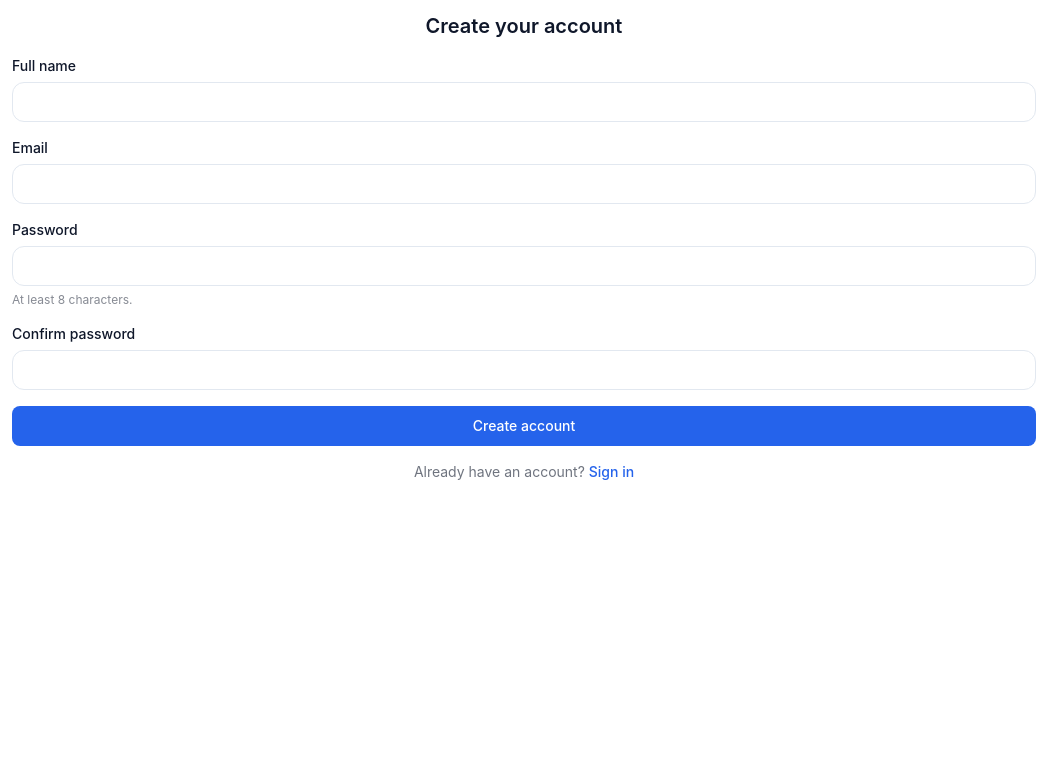
RegisterPage (integration) › shows a server-error message and stays on the page when the API rejects (e.g. duplicate email)
Type "Jane Doe" into the field labelled "Full name".
click(524, 102); type("Jane Doe")  # box [12,82,1036,122]
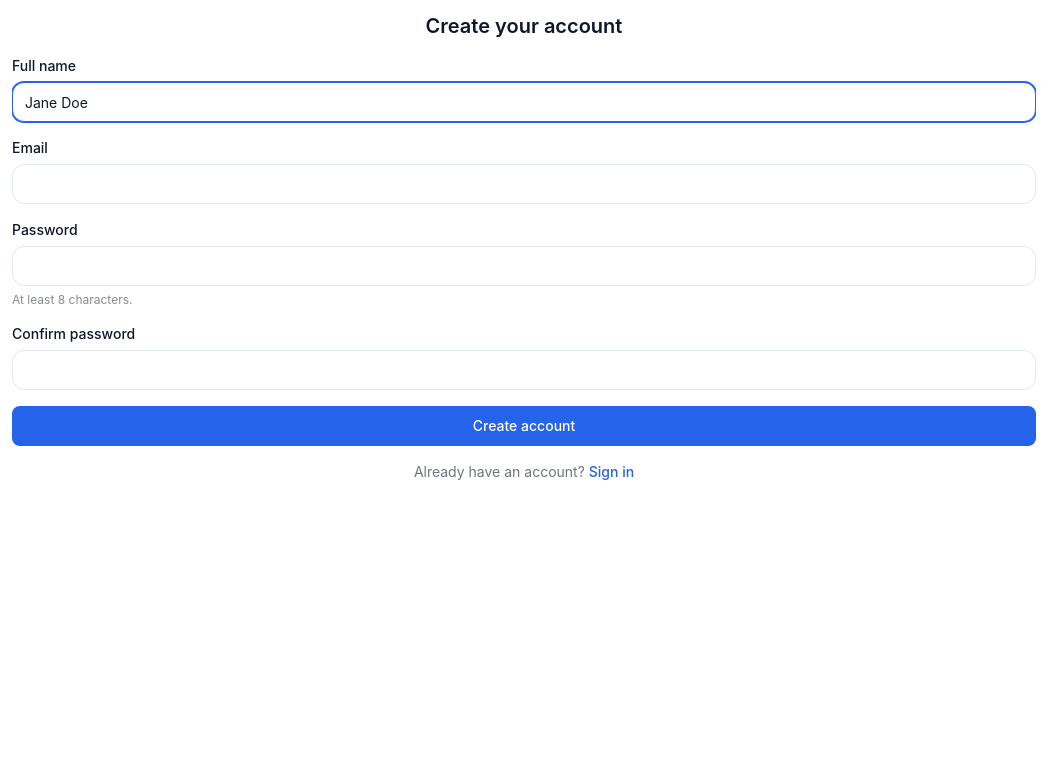
Type "jane@example.com" into the field labelled "Email".
click(524, 184); type("jane@example.com")  # box [12,164,1036,204]
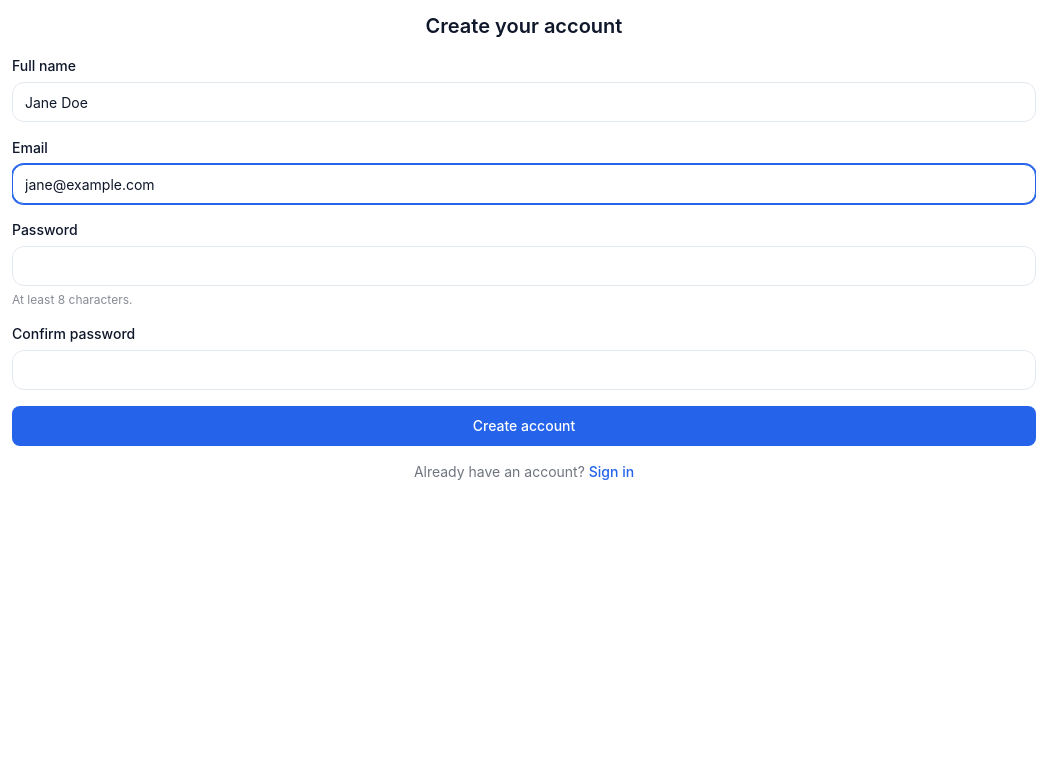
Type "Password123!" into the password field labelled "Password".
click(524, 266); type("Password123!")  # box [12,246,1036,286]
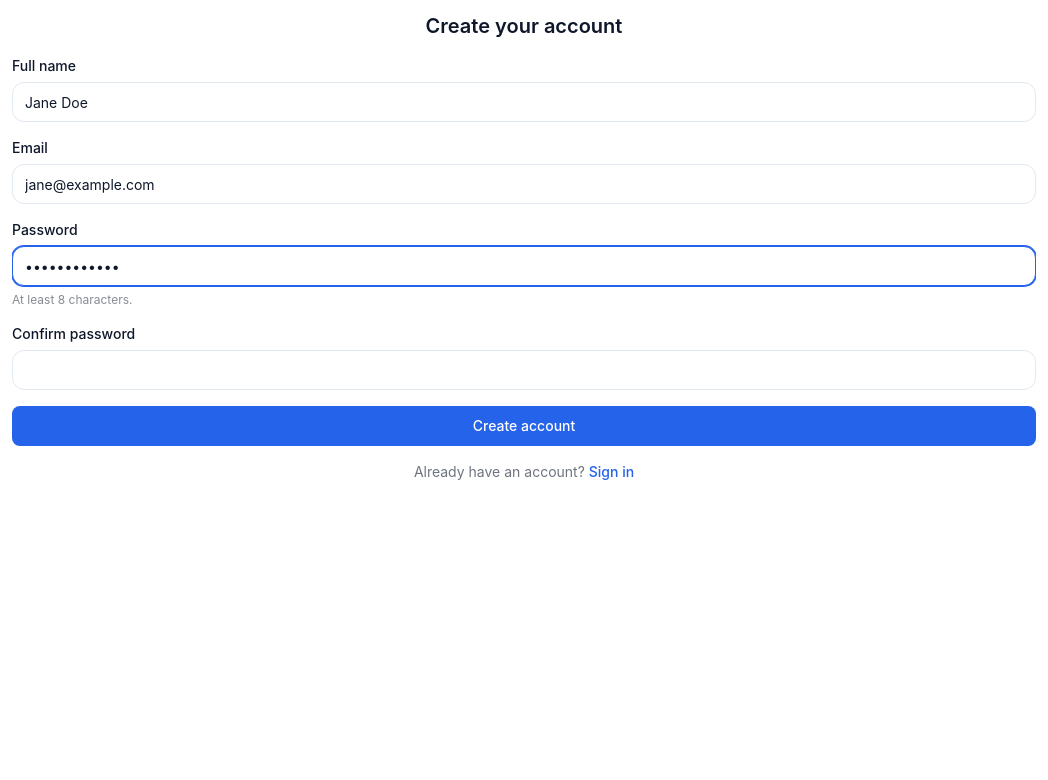
Type "Password123!" into the password field labelled "Confirm password".
click(524, 370); type("Password123!")  # box [12,350,1036,390]
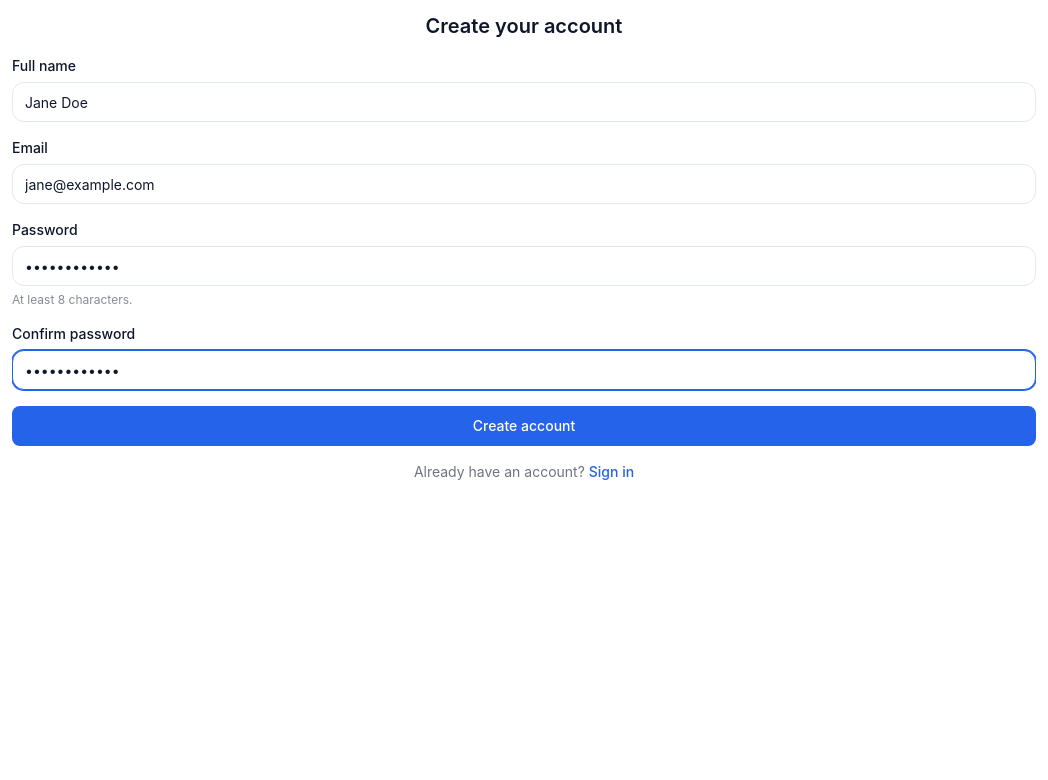
Click the button "Create account".
click(524, 426)  # box [12,406,1036,446]
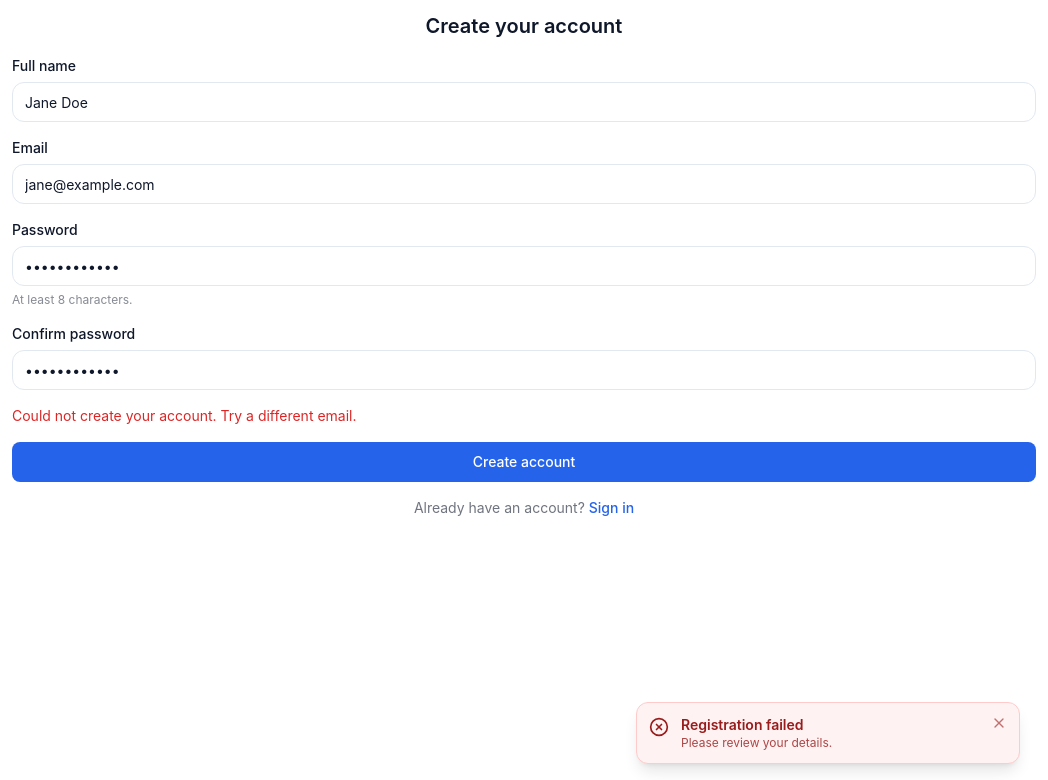
Expected: the text "Could not create your account. Try a different email." is shown, [12,407,356,424]
